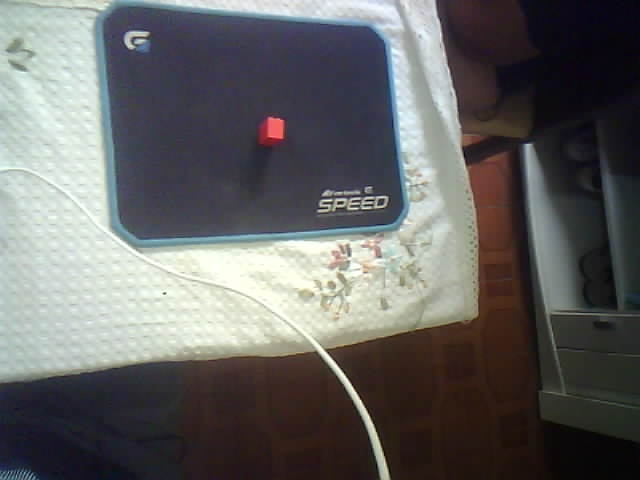lego: (257, 116, 286, 146)
